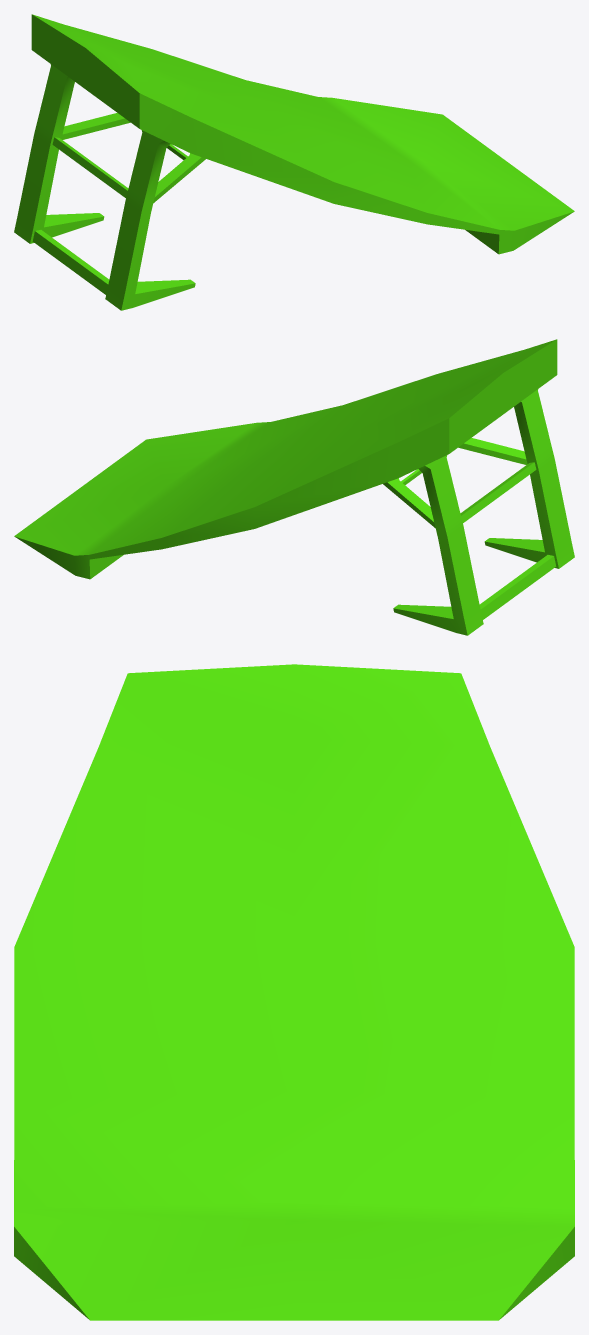
The model's file is Ramp_Mesh.fbx.
The picture shows the model from 3 angles, top to bottom: view 1: azimuth 30°, elevation 25°; view 2: azimuth 150°, elevation 25°; view 3: azimuth 270°, elevation 25°; orthographic projection. The views are drawn at different scales.
Visible parts, largest first — view 1: Ramp; view 2: Ramp; view 3: Ramp.
Part boxes in pixels (left/top/right/bottom): Ramp: left=14, top=14, right=574, bottom=310; Ramp: left=14, top=339, right=574, bottom=635; Ramp: left=14, top=664, right=574, bottom=1320.
Bounding box in the file's own units: 309 × 433 × 206.
